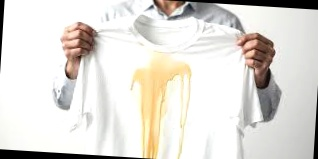coffee: (128, 57, 193, 159)
